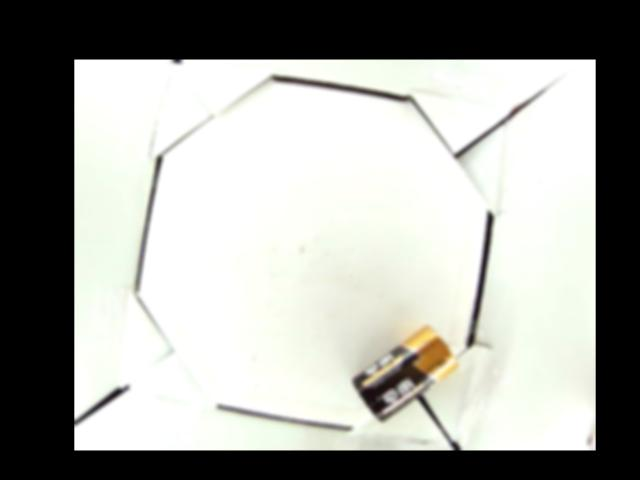Battery: (351, 325, 458, 421)
